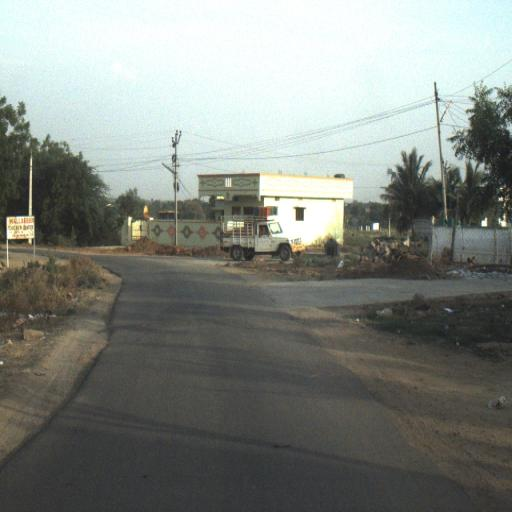street_light_0: (161, 162, 177, 182)
